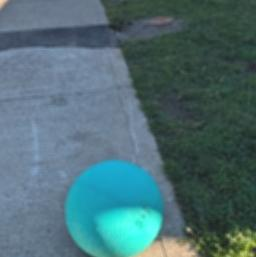algae: (64, 157, 165, 257)
